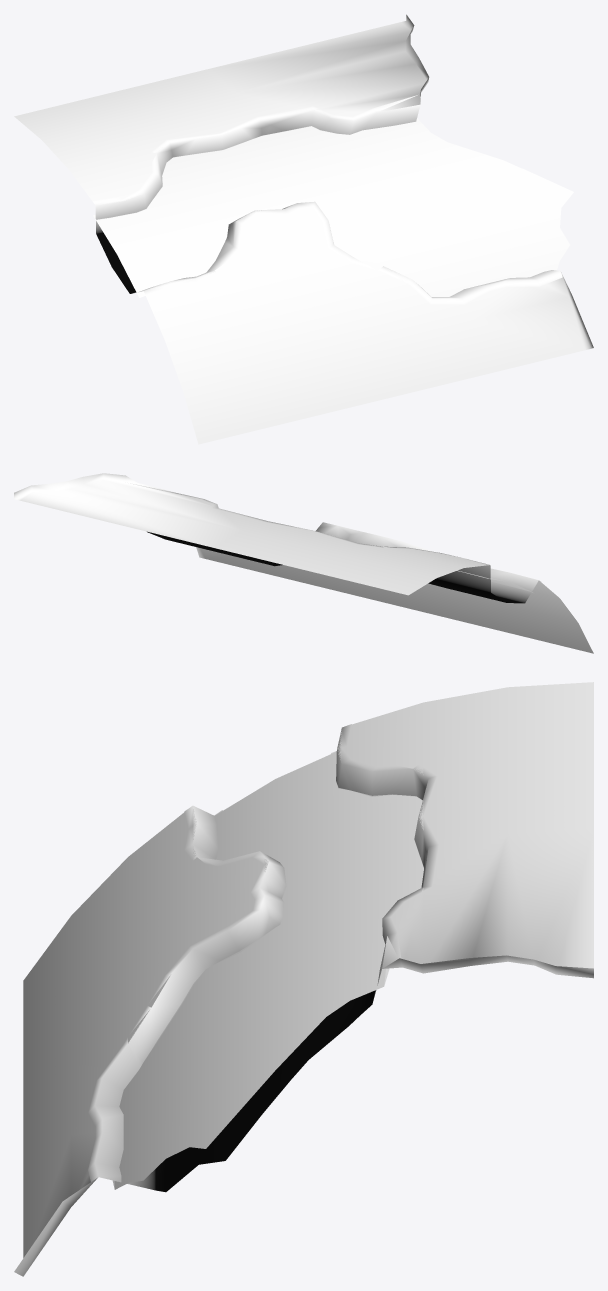
File: grd_Rw_F_0.dae
3 views of the same model, one above another, from view 1: azimuth 30°, elevation 25°; view 2: azimuth 150°, elevation 25°; view 3: azimuth 270°, elevation 25° (orthographic). The views are drawn at different scales.
Visible parts, largest first — view 1: grd_Rw_F_0; view 2: grd_Rw_F_0; view 3: grd_Rw_F_0.
Boxes of the visible parts, x1,y1,x2,y2 form: grd_Rw_F_0: (14, 14, 593, 444); grd_Rw_F_0: (14, 473, 593, 653); grd_Rw_F_0: (14, 682, 593, 1276).
Bounding box in the file's own units: 576 × 252 × 430.
4 materials, 1 textured.
